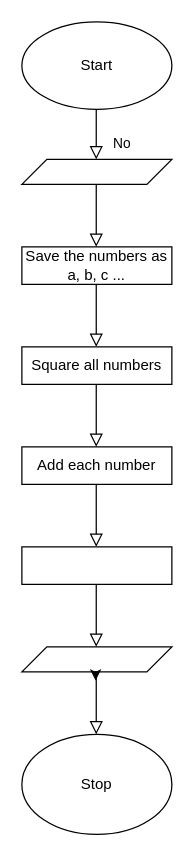
This 194x856 diagram has some shape labels left out. Here are the shapes that lost their labels. From the top down, the box of each, then its label:
(21, 158, 172, 184): Input numbers
(21, 546, 172, 584): Save as Sum
(21, 646, 172, 672): Display on screen
